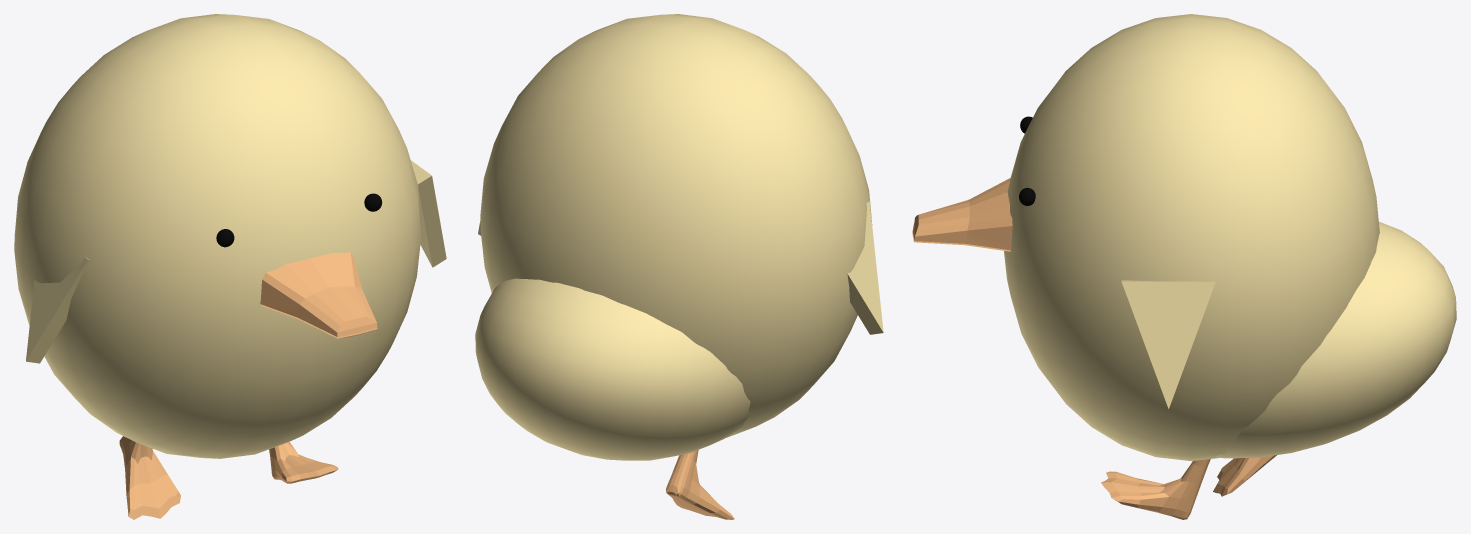
Rendered from littleGoose.glb.
3 renders of one model, left to right at view 1: azimuth 30°, elevation 25°; view 2: azimuth 150°, elevation 25°; view 3: azimuth 270°, elevation 25°, orthographic. The views are drawn at different scales.
Visible parts, largest first — view 1: Sphere (2), mouthUp, legL, Prism (2), Prism (3), leg.R; view 2: Sphere (2), Sphere (1), Prism (2), legL; view 3: Sphere (2), Sphere (1), Prism (3), mouthUp, leg.R, legL.
Part boxes in pixels (left/top/right/bottom): Sphere (2): left=14, top=14, right=421, bottom=458; mouthUp: left=260, top=252, right=377, bottom=336; legL: left=119, top=436, right=180, bottom=519; Prism (2): left=26, top=257, right=89, bottom=363; Prism (3): left=410, top=160, right=446, bottom=267; leg.R: left=269, top=442, right=338, bottom=483; Sphere (2): left=480, top=14, right=872, bottom=437; Sphere (1): left=475, top=278, right=750, bottom=460; Prism (2): left=847, top=201, right=883, bottom=334; legL: left=666, top=450, right=734, bottom=519; Sphere (2): left=1004, top=14, right=1379, bottom=461; Sphere (1): left=1216, top=221, right=1456, bottom=458; Prism (3): left=1121, top=280, right=1215, bottom=408; mouthUp: left=912, top=178, right=1012, bottom=250; leg.R: left=1101, top=459, right=1210, bottom=519; legL: left=1213, top=455, right=1276, bottom=496.
Bounding box in the file's own units: 0.1138 × 0.1257 × 0.1285.
